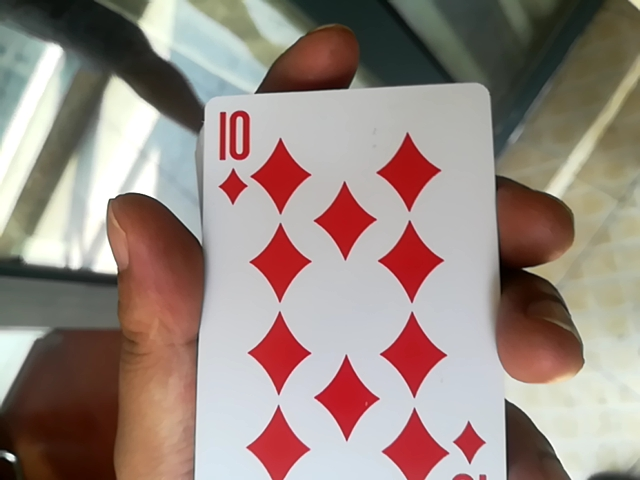fk 10: (165, 61, 497, 480)
